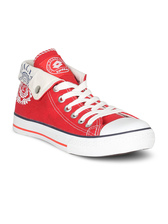shoes: (10, 44, 160, 158)
